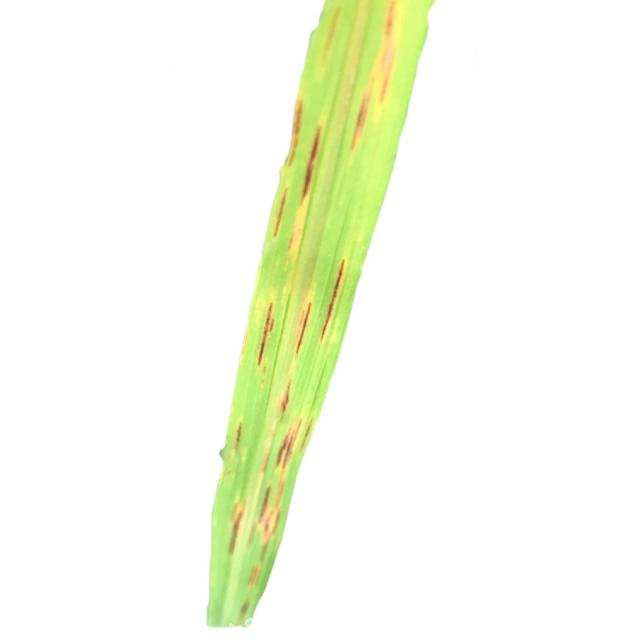Narrow brown: (140, 0, 427, 640)
